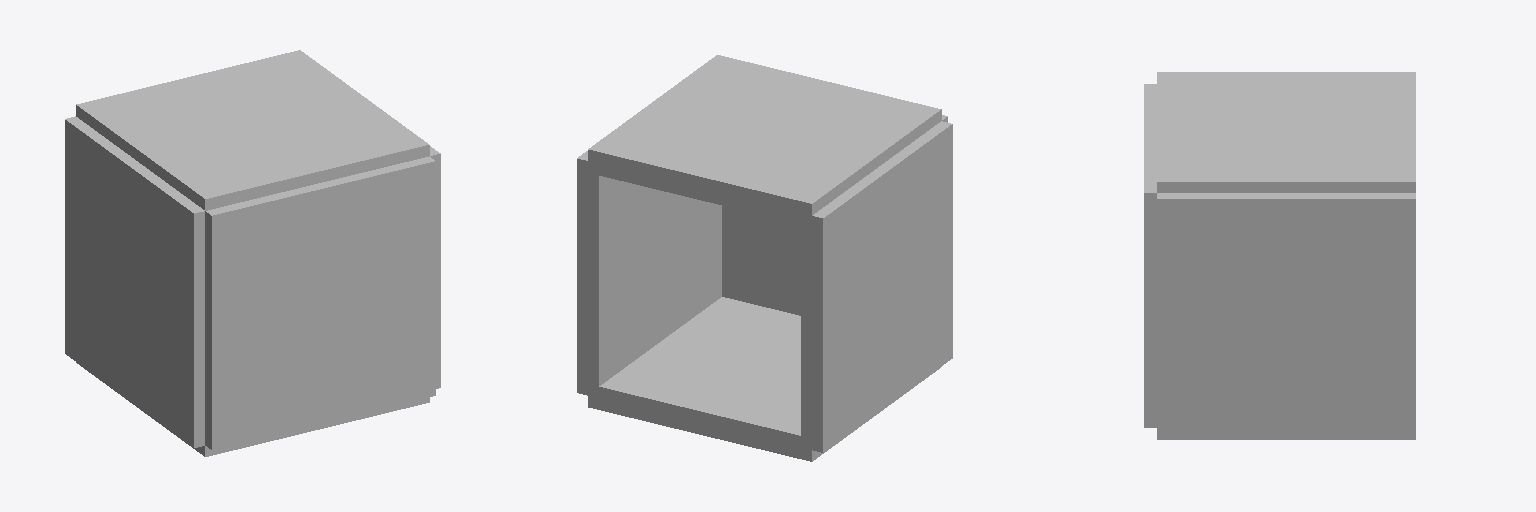
File: 3dgrid.obj
3 renders of one model, left to right at view 1: azimuth 30°, elevation 25°; view 2: azimuth 150°, elevation 25°; view 3: azimuth 270°, elevation 25°, orthographic.
Parts seen in each view (by area): view 1: grid; view 2: grid; view 3: grid.
Part boxes in pixels (left/top/right/bottom): grid: left=65, top=50, right=440, bottom=456; grid: left=577, top=55, right=952, bottom=461; grid: left=1144, top=72, right=1415, bottom=439.
Size of the model in its own units: 430 by 430 by 411.